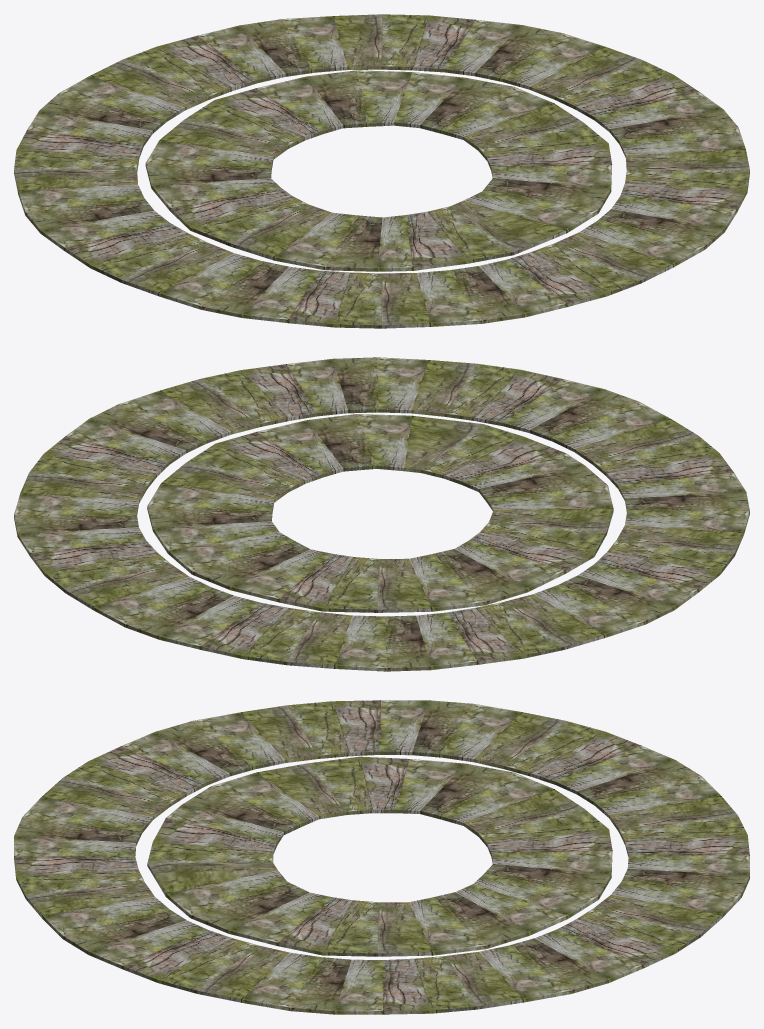
Rendered from circle-ramp_colider.fbx.
3 views of the same model, one above another, from view 1: azimuth 30°, elevation 25°; view 2: azimuth 150°, elevation 25°; view 3: azimuth 270°, elevation 25° (orthographic).
Visible parts, largest first — view 1: Circle_ramp__1_; view 2: Circle_ramp__1_; view 3: Circle_ramp__1_.
Boxes of the visible parts, x1,y1,x2,y2 form: Circle_ramp__1_: (14, 14, 749, 328); Circle_ramp__1_: (14, 357, 749, 671); Circle_ramp__1_: (14, 700, 749, 1014).
Bounding box in the file's own units: 583 × 2.89 × 583.
